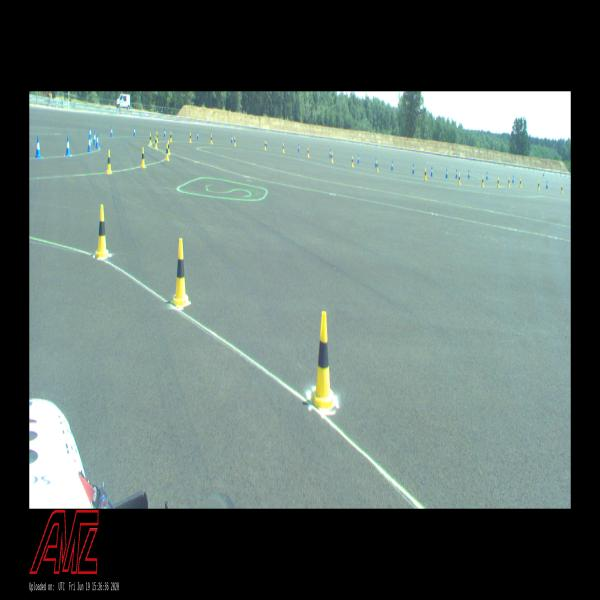blue_cone: (35, 136, 41, 158), (66, 136, 70, 156), (88, 135, 92, 152), (96, 133, 99, 148), (93, 130, 96, 145), (110, 126, 114, 137), (89, 126, 92, 140), (133, 127, 136, 136), (455, 169, 458, 178), (412, 164, 414, 174), (430, 167, 432, 177), (391, 161, 393, 170), (445, 169, 447, 178), (164, 128, 166, 137), (197, 131, 199, 140), (512, 176, 514, 184), (231, 136, 233, 144), (266, 139, 268, 147), (486, 172, 488, 179), (375, 157, 376, 168), (358, 155, 359, 164), (330, 149, 331, 158), (546, 180, 547, 188), (298, 144, 299, 152), (468, 170, 469, 178)
yellow_cone: (308, 312, 335, 409), (170, 239, 190, 308), (94, 205, 109, 258), (106, 150, 112, 173), (140, 148, 146, 168), (165, 144, 169, 161), (424, 168, 427, 180), (149, 133, 152, 145), (155, 136, 158, 148), (351, 156, 354, 167), (189, 132, 192, 143), (458, 174, 461, 184), (168, 140, 170, 155), (537, 181, 540, 190), (481, 178, 484, 186), (507, 178, 510, 186), (497, 177, 499, 188), (376, 161, 378, 172), (170, 132, 172, 142), (331, 152, 333, 162), (210, 134, 212, 144), (308, 148, 310, 157), (264, 141, 266, 150), (234, 137, 236, 146), (561, 185, 563, 193), (282, 144, 284, 152), (520, 179, 522, 187), (157, 132, 158, 142)
